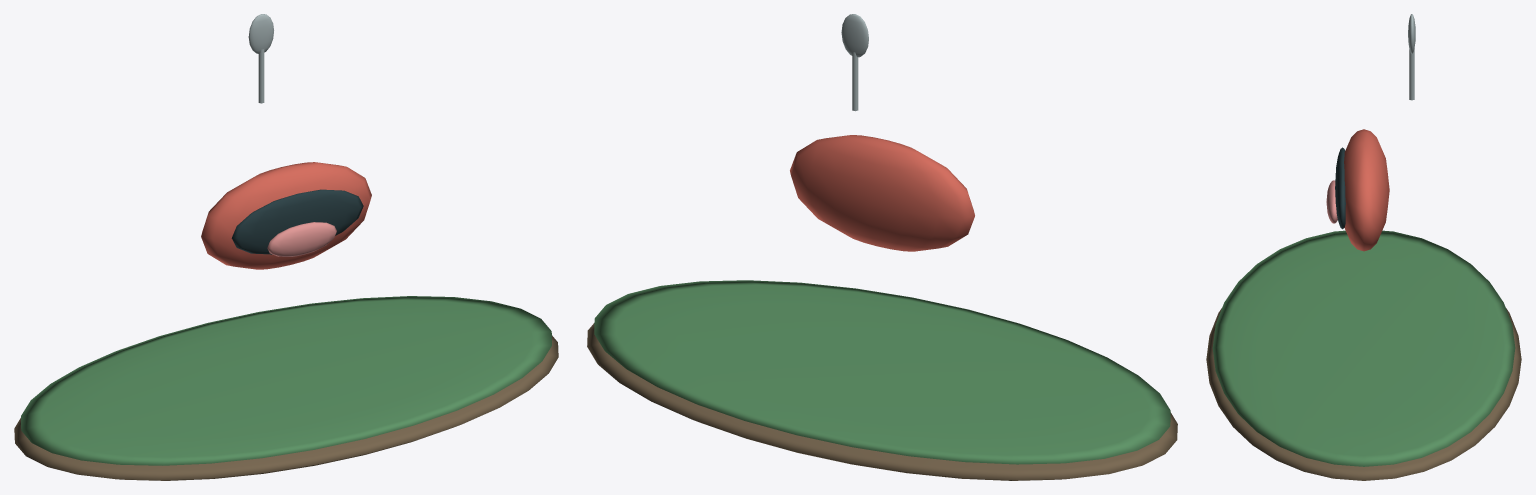
Rendered from complete-third-sample-taste.glb.
The picture shows the model from 3 angles, left to right: view 1: azimuth 30°, elevation 25°; view 2: azimuth 150°, elevation 25°; view 3: azimuth 270°, elevation 25°; orthographic projection. The views are drawn at different scales.
Visible parts, largest first — view 1: complete-third-sample-taste_surface_01, complete-third-sample-taste_surface_00, complete-third-sample-taste_surface_02, complete-third-sample-taste_surface_03, complete-third-sample-taste_surface_04, complete-third-sample-taste_surface_05; view 2: complete-third-sample-taste_surface_01, complete-third-sample-taste_surface_02, complete-third-sample-taste_surface_00, complete-third-sample-taste_surface_05; view 3: complete-third-sample-taste_surface_01, complete-third-sample-taste_surface_00, complete-third-sample-taste_surface_02, complete-third-sample-taste_surface_03, complete-third-sample-taste_surface_05, complete-third-sample-taste_surface_04.
Boxes of the visible parts, left/top/right/bottom form: complete-third-sample-taste_surface_01: left=21, top=296, right=551, bottom=465; complete-third-sample-taste_surface_00: left=14, top=335, right=558, bottom=480; complete-third-sample-taste_surface_02: left=201, top=162, right=371, bottom=269; complete-third-sample-taste_surface_03: left=231, top=189, right=363, bottom=254; complete-third-sample-taste_surface_04: left=267, top=222, right=336, bottom=256; complete-third-sample-taste_surface_05: left=248, top=14, right=273, bottom=103; complete-third-sample-taste_surface_01: left=594, top=280, right=1170, bottom=464; complete-third-sample-taste_surface_02: left=790, top=135, right=974, bottom=251; complete-third-sample-taste_surface_00: left=587, top=323, right=1177, bottom=480; complete-third-sample-taste_surface_05: left=841, top=14, right=868, bottom=111; complete-third-sample-taste_surface_01: left=1212, top=230, right=1515, bottom=466; complete-third-sample-taste_surface_00: left=1206, top=308, right=1521, bottom=480; complete-third-sample-taste_surface_02: left=1344, top=129, right=1389, bottom=251; complete-third-sample-taste_surface_03: left=1335, top=147, right=1345, bottom=229; complete-third-sample-taste_surface_05: left=1408, top=14, right=1415, bottom=100; complete-third-sample-taste_surface_04: left=1326, top=180, right=1337, bottom=223.
Bounding box in the file's own units: 4.56 × 3.15 × 2.5.
